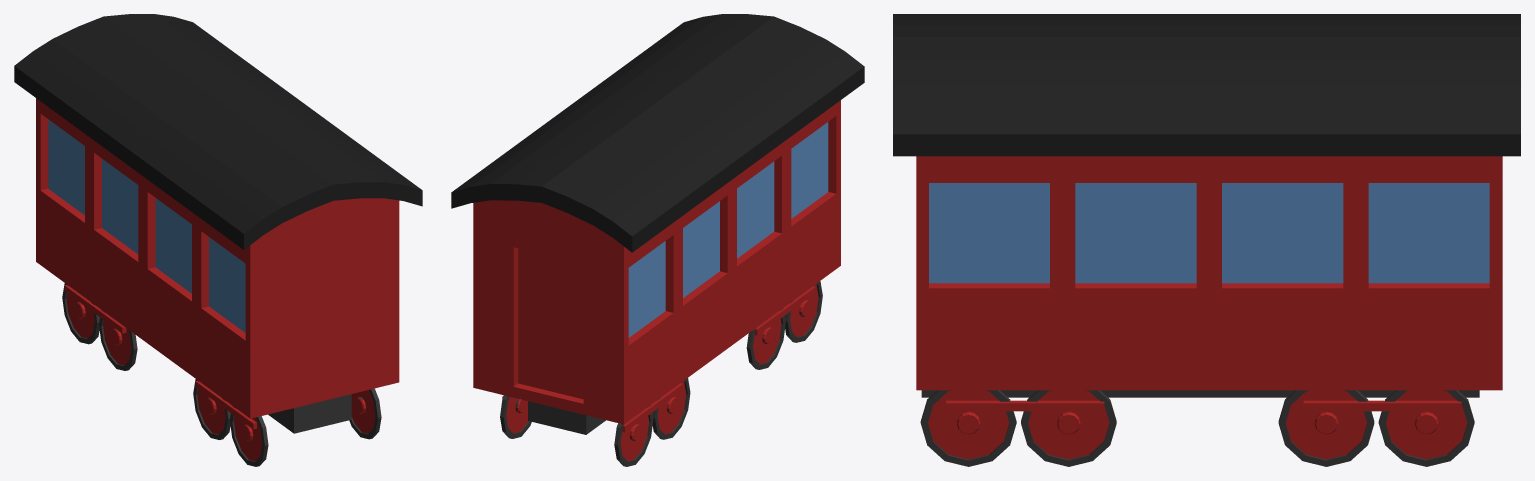
File: TrainPeople.fbx
3 renders of one model, left to right at view 1: azimuth 30°, elevation 25°; view 2: azimuth 150°, elevation 25°; view 3: azimuth 270°, elevation 25°, orthographic. The views are drawn at different scales.
Visible parts, largest first — view 1: TrainPeopleMain, WheelsFront2, WheelsBack2, WheelsFront1, WheelsBack1, DrehDingVorne, DrehDingBack; view 2: TrainPeopleMain, WheelsBack1, WheelsFront1, WheelsFront2, WheelsBack2, DrehDingBack, DrehDingVorne; view 3: TrainPeopleMain, WheelsFront2, WheelsBack2, WheelsBack1, WheelsFront1, DrehDingVorne, DrehDingBack.
Part boxes in pixels (left/top/right/bottom): TrainPeopleMain: left=14, top=14, right=422, bottom=433; WheelsFront2: left=230, top=388, right=381, bottom=466; WheelsBack2: left=99, top=310, right=137, bottom=370; WheelsFront1: left=193, top=379, right=230, bottom=439; WheelsBack1: left=62, top=283, right=99, bottom=344; DrehDingVorne: left=195, top=380, right=256, bottom=429; DrehDingBack: left=64, top=285, right=126, bottom=333; TrainPeopleMain: left=451, top=14, right=864, bottom=434; WheelsBack1: left=500, top=395, right=653, bottom=466; WheelsFront1: left=746, top=308, right=785, bottom=369; WheelsFront2: left=784, top=281, right=822, bottom=342; WheelsBack2: left=652, top=378, right=690, bottom=439; DrehDingBack: left=502, top=383, right=683, bottom=432; DrehDingVorne: left=754, top=286, right=815, bottom=335; TrainPeopleMain: left=893, top=14, right=1520, bottom=397; WheelsFront2: left=920, top=390, right=1016, bottom=466; WheelsBack2: left=1278, top=390, right=1374, bottom=466; WheelsBack1: left=1378, top=390, right=1474, bottom=466; WheelsFront1: left=1021, top=390, right=1116, bottom=466; DrehDingVorne: left=946, top=400, right=1104, bottom=411; DrehDingBack: left=1303, top=400, right=1461, bottom=411.
Bounding box in the file's own units: 319 × 487 × 709.
